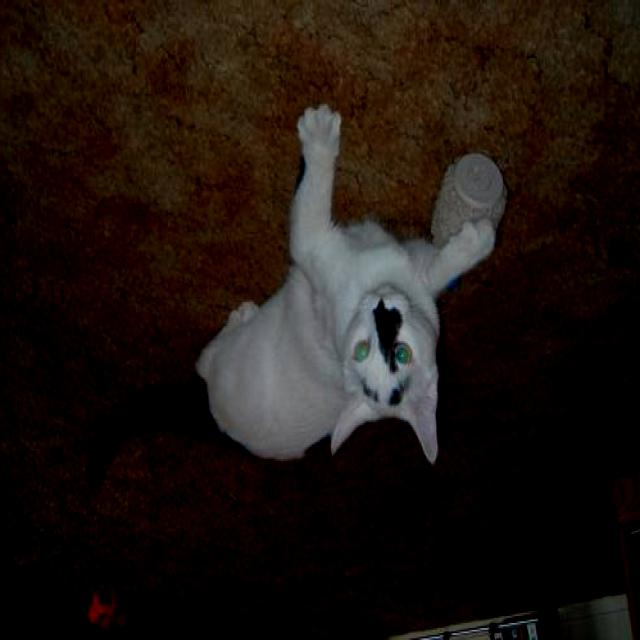Kucing: (34, 75, 571, 545)
